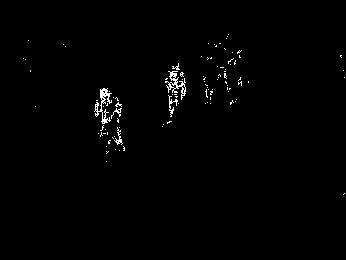person: (93, 87, 126, 158), (162, 62, 186, 127)
